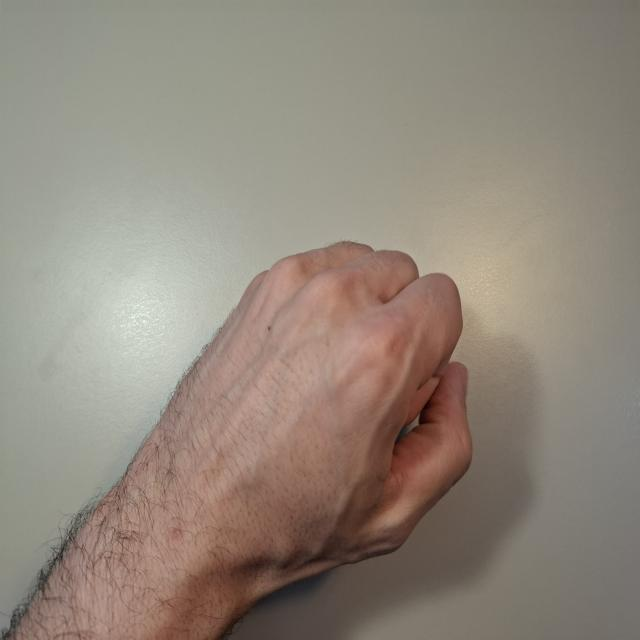glove_off: (164, 239, 475, 576)
